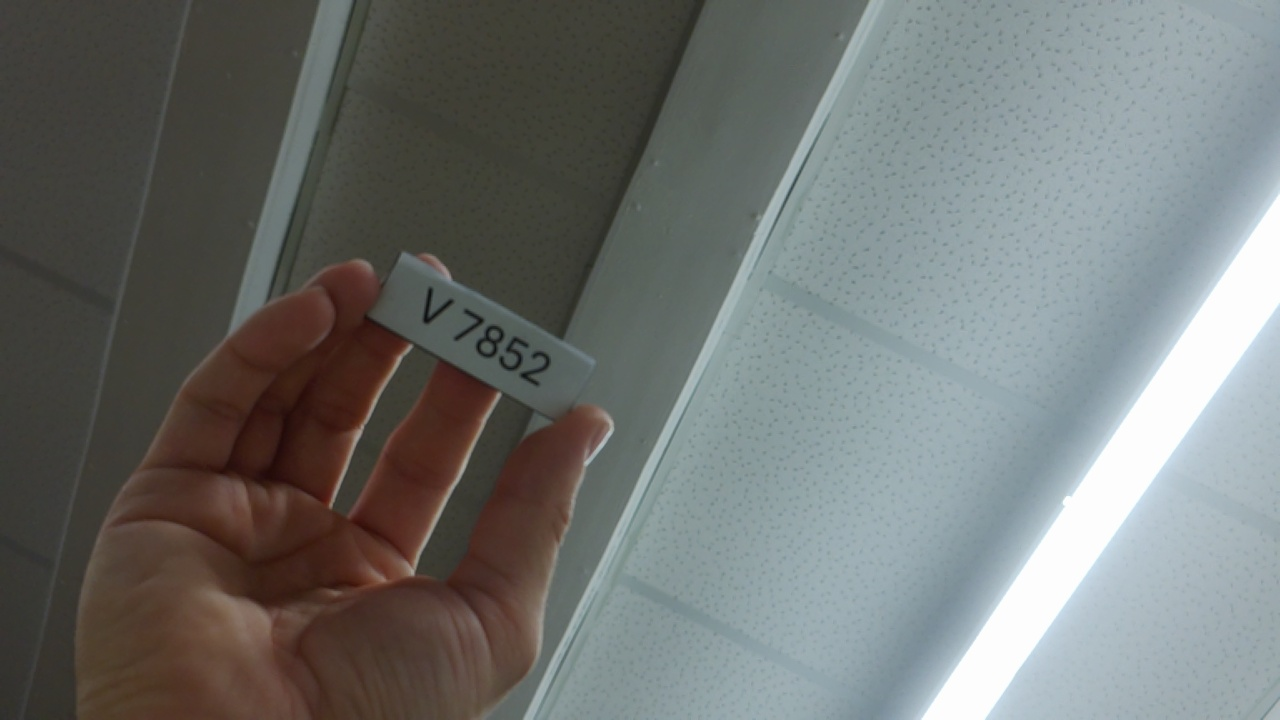license_plate: (355, 245, 613, 428)
